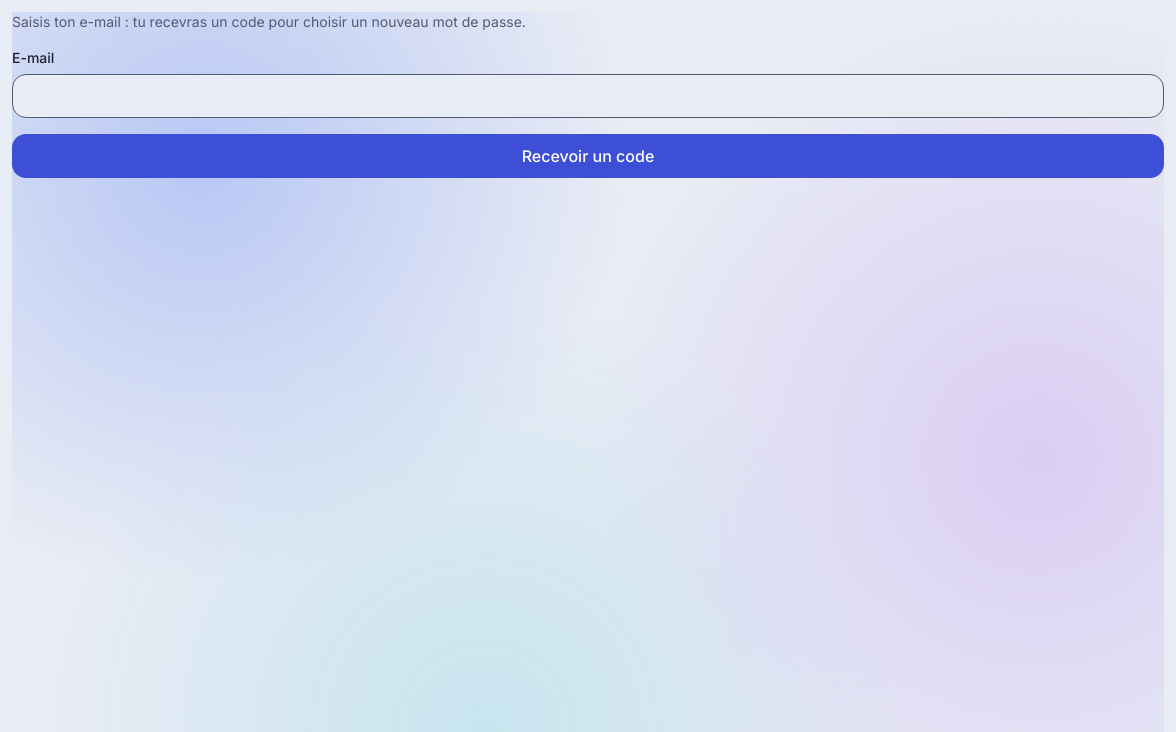
Test: réinitialisation du mot de passe › après l'envoi, demande le code et le nouveau mot de passe
Step 1. Type "a@example.test" into the field labelled "E-mail" → {"x": 588, "y": 96}, box top-left (12, 74), bottom-right (1164, 118)
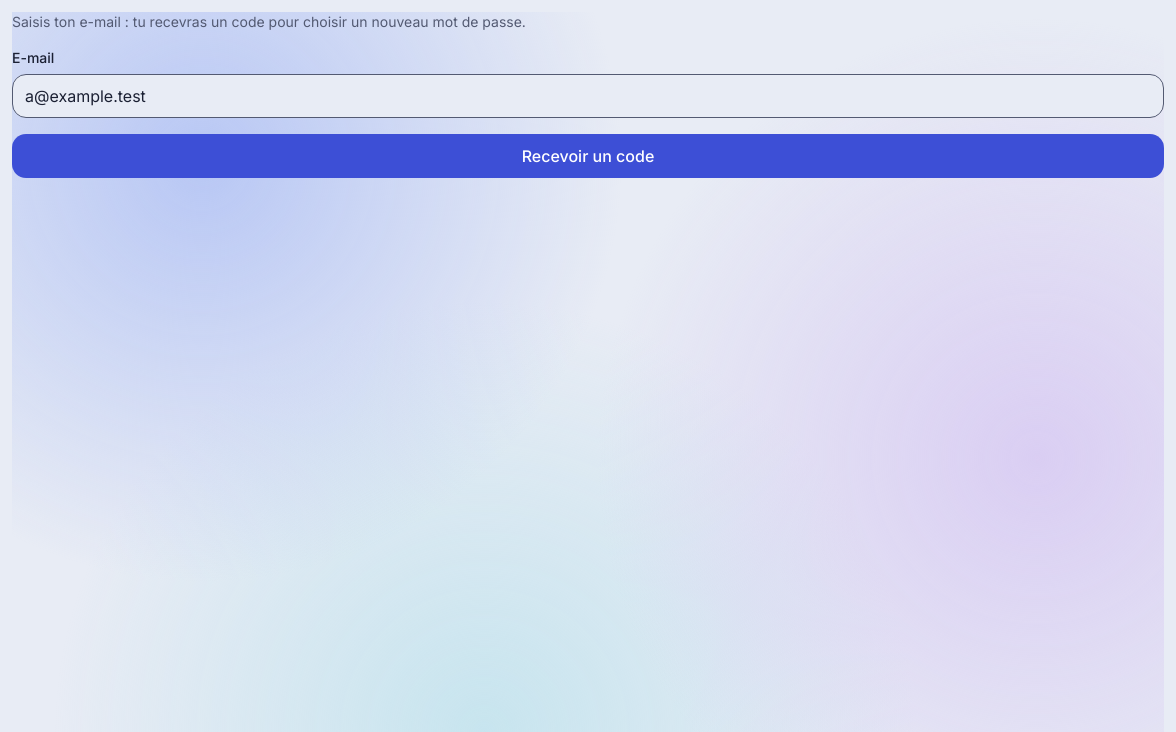
Step 2. Click the button "Recevoir un code" → {"x": 588, "y": 156}, box top-left (12, 134), bottom-right (1164, 178)
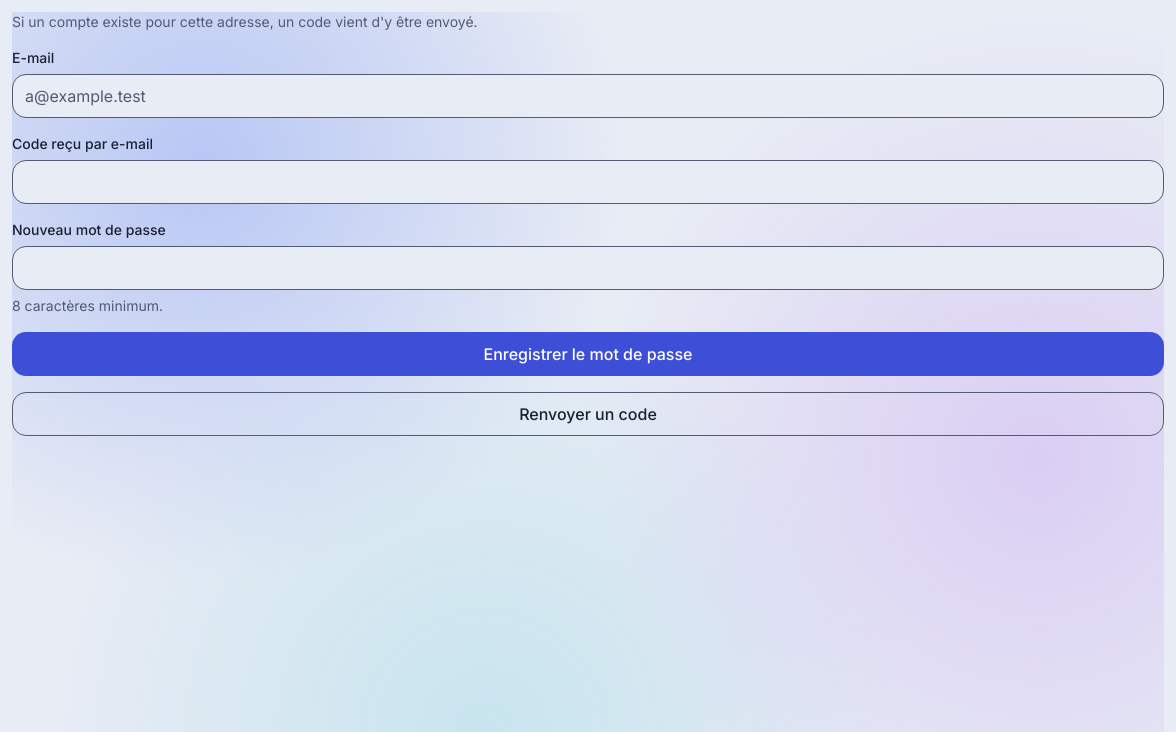
Expected: the field labelled "Code reçu par e-mail" is shown, top-left (12, 160), bottom-right (1164, 204)
Expected: the message reads "Si un compte existe pour cette adresse, un code vient d'y être envoyé.", top-left (12, 13), bottom-right (478, 30)
